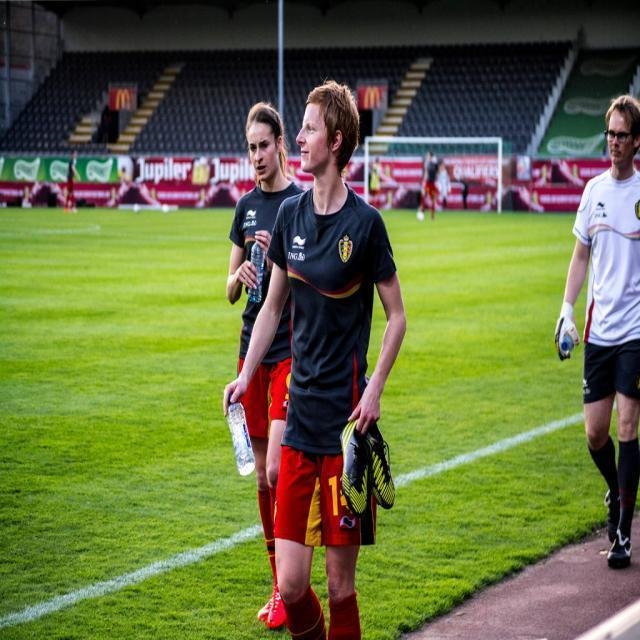ball: (134, 202, 140, 214)
